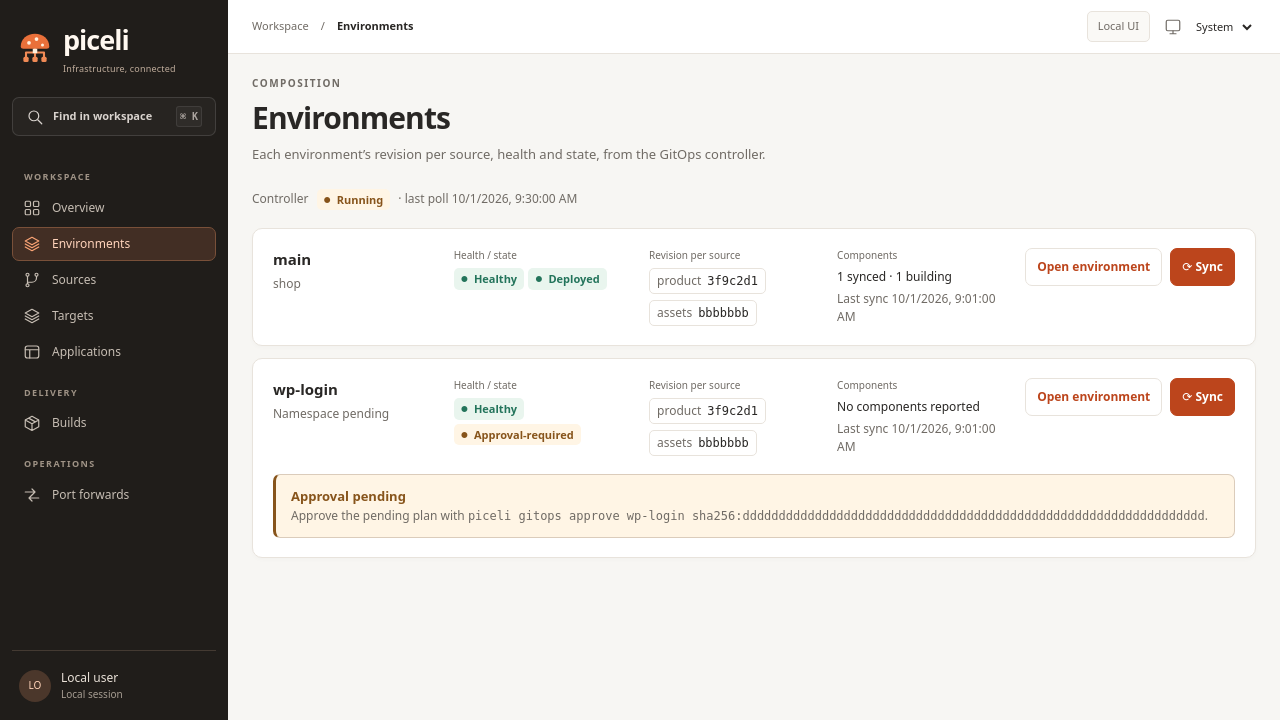
Test: opens the environment inventory with revisions per source and sync
Expected: the text "3f9c2d1" next to "1 synced · 1 building" is shown, [707,274,758,288]
Expected: the text "product" next to "Deployed" is shown, [657,272,701,289]
Click the button with aria-label "Sync main" at (1203, 267), box [1170,248,1235,286]
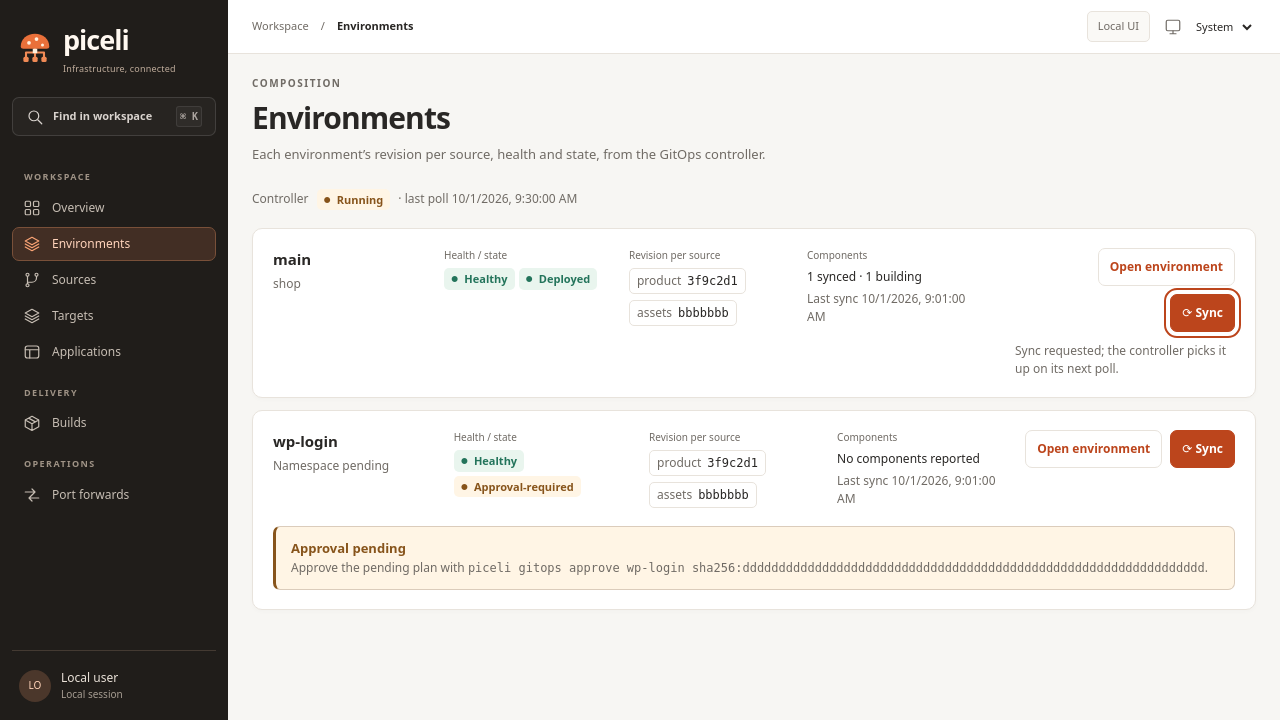
Result: the text "Sync requested; the controller picks it up on its next poll." is shown at [1015,342,1235,378]
